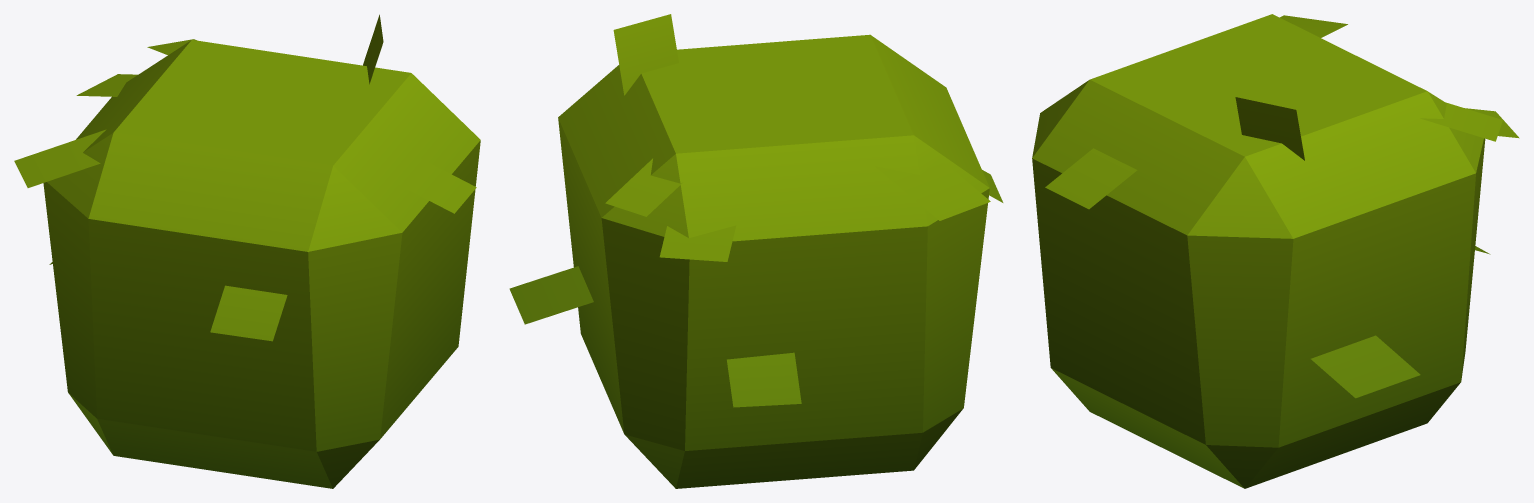
File: shrub.fbx
The picture shows the model from 3 angles, left to right: view 1: azimuth 30°, elevation 25°; view 2: azimuth 150°, elevation 25°; view 3: azimuth 270°, elevation 25°; orthographic projection. The views are drawn at different scales.
Parts seen in each view (by area): view 1: shrub; view 2: shrub; view 3: shrub.
Boxes of the visible parts, left/top/right/bottom form: shrub: left=14, top=14, right=480, bottom=488; shrub: left=509, top=14, right=1003, bottom=488; shrub: left=1032, top=14, right=1519, bottom=488.
Size of the model in its own units: 83.12 by 67.58 by 79.53.
